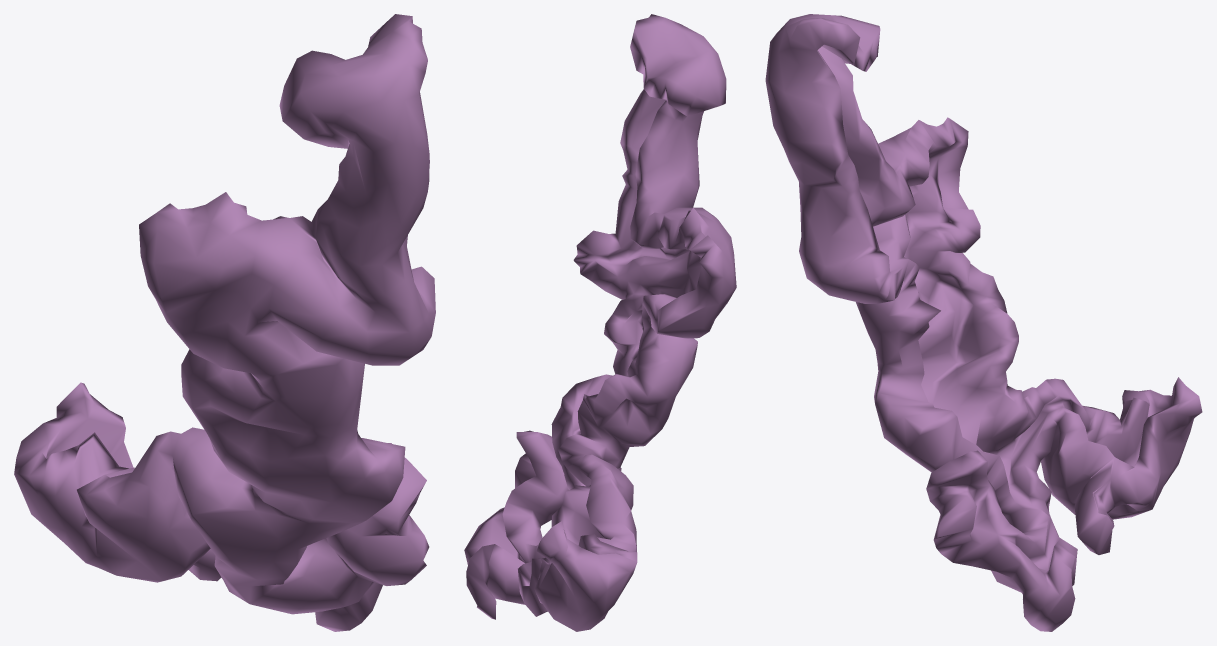
3 views of the same model, side by side, from view 1: azimuth 30°, elevation 25°; view 2: azimuth 150°, elevation 25°; view 3: azimuth 270°, elevation 25° (orthographic). The views are drawn at different scales.
Parts seen in each view (by area): view 1: 右侧额中回; view 2: 右侧额中回; view 3: 右侧额中回.
Boxes of the visible parts, x1,y1,x2,y2 form: 右侧额中回: (14, 14, 435, 631); 右侧额中回: (464, 14, 736, 631); 右侧额中回: (765, 14, 1202, 631).
Bounding box in the file's own units: 0.0579 × 0.134 × 0.0907.
